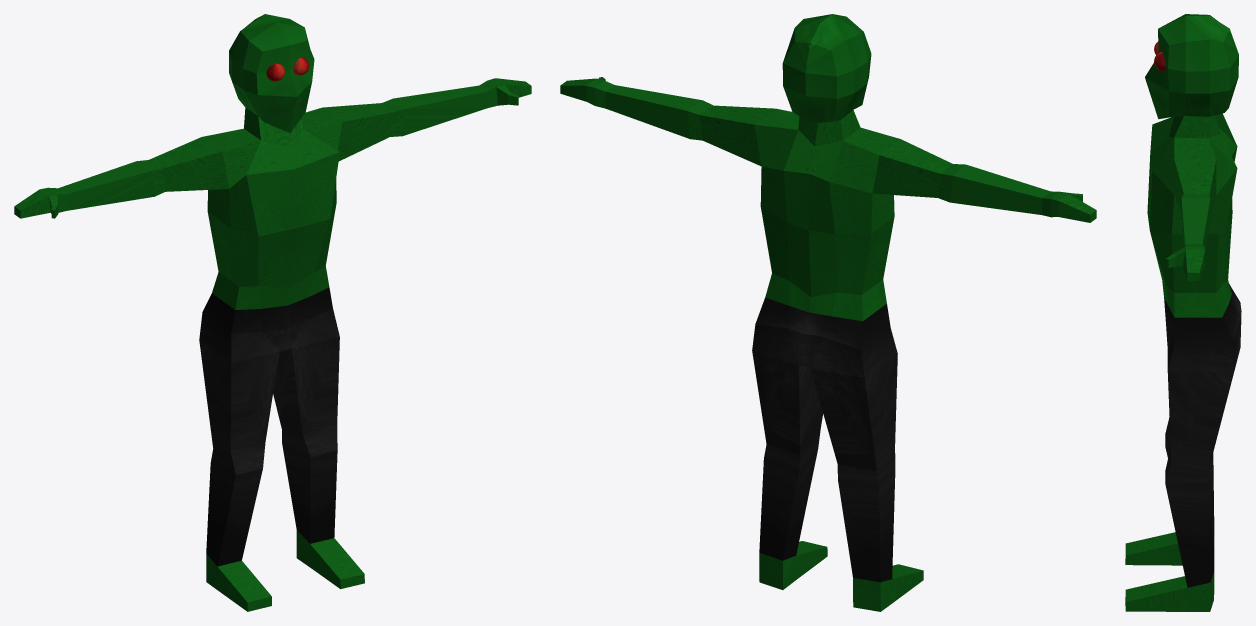
Rendered from zombie.fbx.
The picture shows the model from 3 angles, left to right: view 1: azimuth 30°, elevation 25°; view 2: azimuth 150°, elevation 25°; view 3: azimuth 270°, elevation 25°; orthographic projection. The views are drawn at different scales.
Parts seen in each view (by area): view 1: Cube; view 2: Cube; view 3: Cube.
Boxes of the visible parts, x1,y1,x2,y2 form: Cube: (14, 14, 531, 611); Cube: (560, 14, 1096, 611); Cube: (1125, 14, 1241, 611).
Bounding box in the file's own units: 1552 × 1607 × 298.
Materials: 3 (3 with a texture image).
